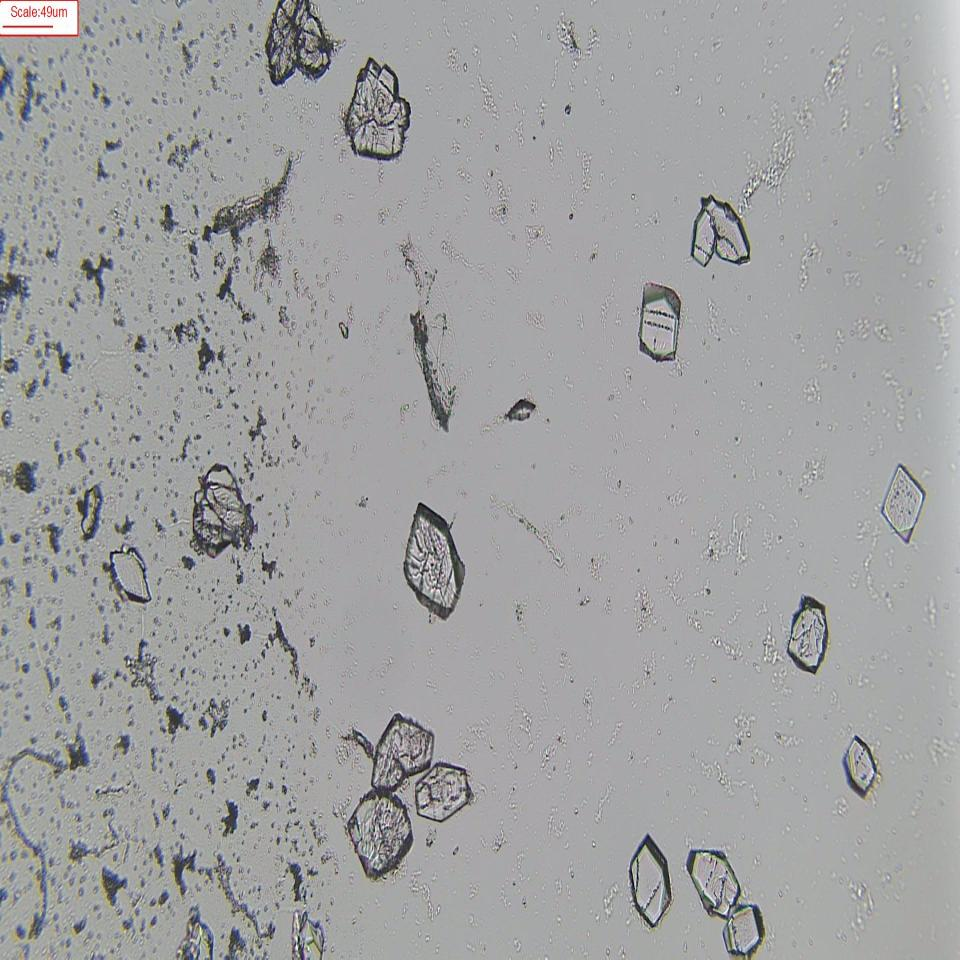crystal: (399, 500, 467, 613), (345, 791, 419, 885), (346, 60, 412, 165), (189, 457, 254, 554), (365, 718, 440, 791), (626, 834, 675, 930), (878, 459, 928, 550), (683, 842, 742, 916), (413, 759, 476, 828), (637, 277, 681, 367), (783, 596, 828, 678), (839, 732, 885, 802), (105, 546, 156, 608), (724, 898, 771, 958)
not_crystal: (263, 2, 333, 92), (690, 194, 750, 272)
